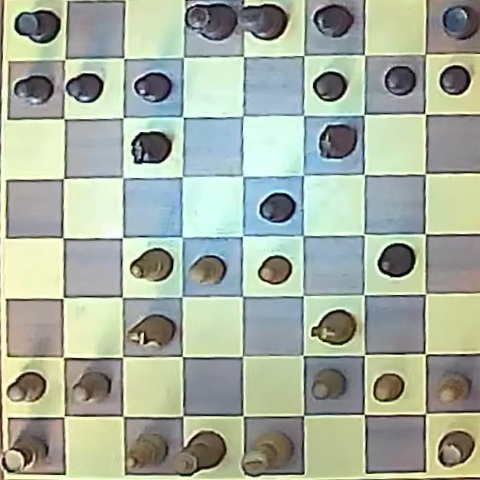black-bishop: (313, 4, 353, 38), (377, 243, 415, 278)
black-king: (239, 3, 286, 40)
black-knight: (318, 124, 357, 159), (131, 131, 171, 164)
black-pawn: (13, 75, 54, 105), (133, 72, 172, 103), (66, 72, 104, 103), (259, 192, 296, 223), (313, 71, 347, 101), (384, 65, 416, 95), (439, 65, 471, 95)
black-queen: (186, 3, 238, 41)
black-rook: (15, 9, 60, 44), (442, 5, 478, 39)
white-bishop: (127, 433, 168, 470), (131, 248, 173, 282)
white-king: (242, 431, 292, 476)
white-knight: (127, 314, 174, 350), (311, 310, 355, 346)
white-pawn: (6, 372, 46, 403), (72, 372, 111, 403), (189, 256, 225, 286), (311, 369, 345, 399), (436, 374, 469, 404), (258, 256, 292, 285), (374, 374, 404, 402)
white-queen: (173, 432, 225, 475)
white-rook: (3, 435, 47, 472), (437, 431, 474, 467)
